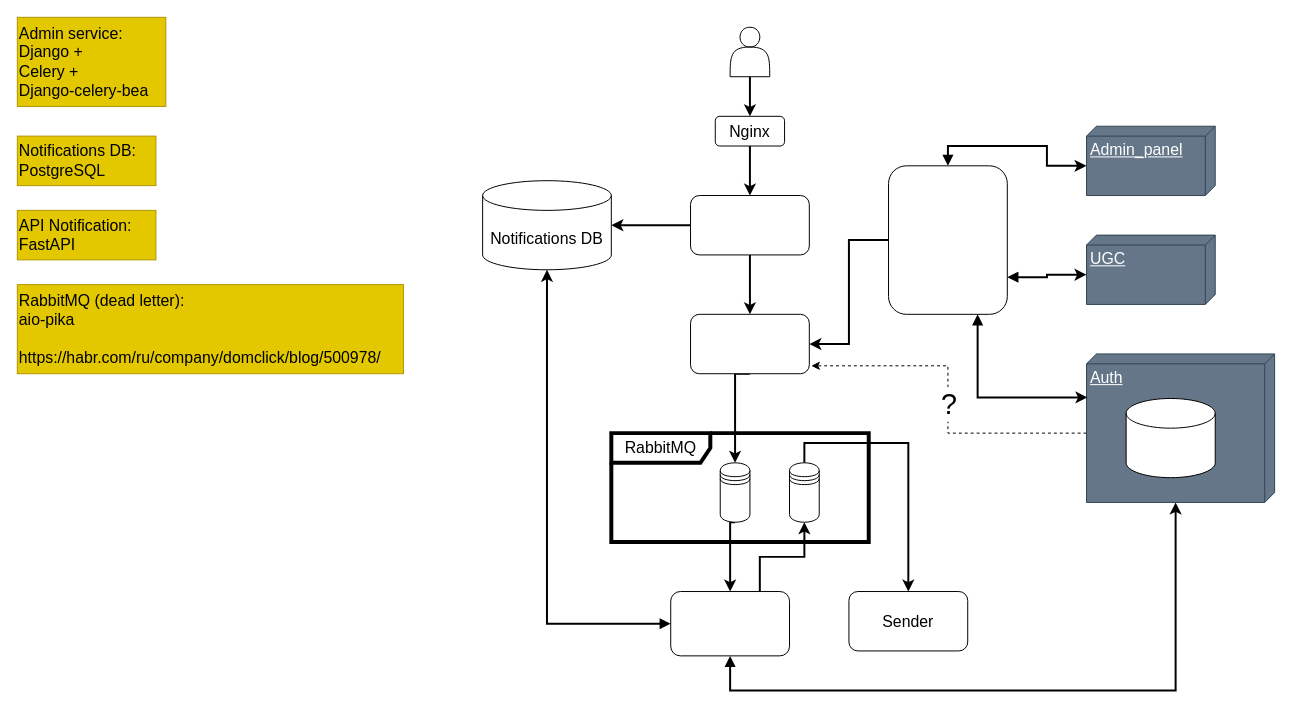
The diagram is 1292 pixels wide and 718 high, and some of its shapes have lost their labels. The centre of each missing label's shape, as x and y in pixels:
"Admin service" goes at (x=749, y=225).
"API Notification" goes at (x=749, y=343).
"Enricher" goes at (x=730, y=623).
"Notifications Generator" goes at (x=947, y=239).
"users_info" goes at (x=1170, y=437).
